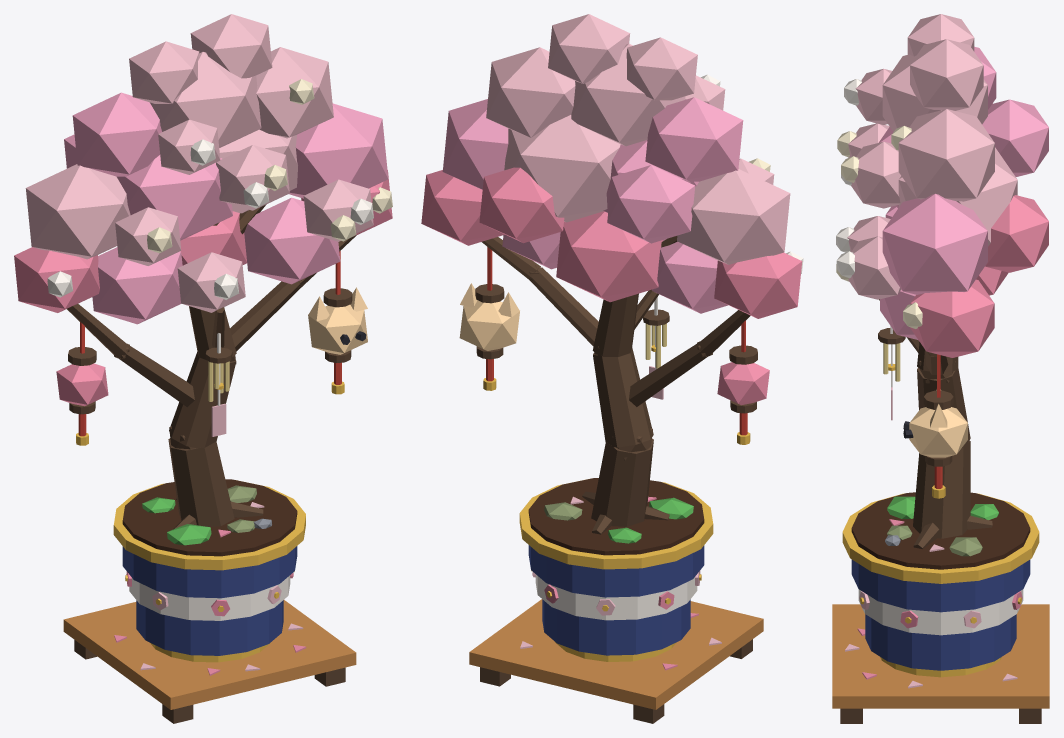
File: CatCafe_Decor_BlossomTree.fbx
The picture shows the model from 3 angles, left to right: view 1: azimuth 30°, elevation 25°; view 2: azimuth 150°, elevation 25°; view 3: azimuth 270°, elevation 25°; orthographic projection.
Visible parts, largest first — view 1: CatCafe_Decor_BlossomTree_Canopy, CatCafe_Decor_BlossomTree, CatCafe_Decor_BlossomTree_LanternL_Glow, CatCafe_Decor_BlossomTree_LanternR_Glow, CatCafe_Decor_BlossomTree_Chime_Swing, CatCafe_Decor_BlossomTree_LanternL_Swing, CatCafe_Decor_BlossomTree_LanternR_Swing; view 2: CatCafe_Decor_BlossomTree_Canopy, CatCafe_Decor_BlossomTree, CatCafe_Decor_BlossomTree_LanternL_Glow, CatCafe_Decor_BlossomTree_LanternR_Glow, CatCafe_Decor_BlossomTree_LanternL_Swing, CatCafe_Decor_BlossomTree_Chime_Swing, CatCafe_Decor_BlossomTree_LanternR_Swing; view 3: CatCafe_Decor_BlossomTree_Canopy, CatCafe_Decor_BlossomTree, CatCafe_Decor_BlossomTree_LanternL_Glow, CatCafe_Decor_BlossomTree_LanternL_Swing, CatCafe_Decor_BlossomTree_Chime_Swing.
Part boxes in pixels (x1,y1,x2,y2): CatCafe_Decor_BlossomTree_Canopy: [14, 14, 392, 324]; CatCafe_Decor_BlossomTree: [63, 204, 356, 723]; CatCafe_Decor_BlossomTree_LanternL_Glow: [308, 287, 367, 354]; CatCafe_Decor_BlossomTree_LanternR_Glow: [56, 363, 108, 406]; CatCafe_Decor_BlossomTree_Chime_Swing: [205, 333, 232, 436]; CatCafe_Decor_BlossomTree_LanternL_Swing: [323, 251, 366, 394]; CatCafe_Decor_BlossomTree_LanternR_Swing: [68, 322, 96, 445]; CatCafe_Decor_BlossomTree_Canopy: [421, 14, 803, 318]; CatCafe_Decor_BlossomTree: [469, 236, 763, 723]; CatCafe_Decor_BlossomTree_LanternL_Glow: [459, 283, 519, 350]; CatCafe_Decor_BlossomTree_LanternR_Glow: [717, 362, 769, 405]; CatCafe_Decor_BlossomTree_LanternL_Swing: [475, 247, 504, 390]; CatCafe_Decor_BlossomTree_Chime_Swing: [643, 297, 669, 399]; CatCafe_Decor_BlossomTree_LanternR_Swing: [729, 320, 757, 444]; CatCafe_Decor_BlossomTree_Canopy: [836, 14, 1048, 357]; CatCafe_Decor_BlossomTree: [832, 299, 1049, 723]; CatCafe_Decor_BlossomTree_LanternL_Glow: [909, 389, 967, 457]; CatCafe_Decor_BlossomTree_LanternL_Swing: [903, 354, 953, 498]; CatCafe_Decor_BlossomTree_Chime_Swing: [878, 326, 905, 420].
Bounding box in the file's own units: 3.78 × 6.31 × 1.9.
1 material, 1 textured.
